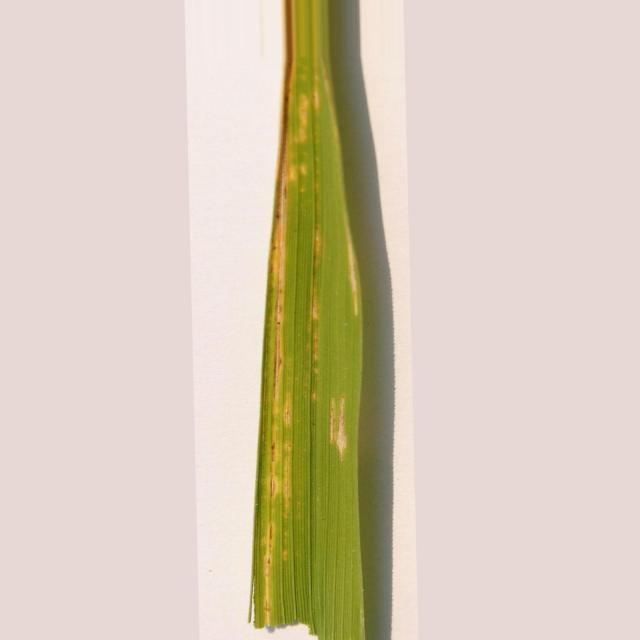Bacterial_Leaf_Blight: (252, 0, 311, 628), (345, 224, 358, 316), (330, 396, 348, 459), (312, 226, 322, 268), (312, 327, 320, 376), (312, 286, 318, 322), (310, 390, 319, 405)
